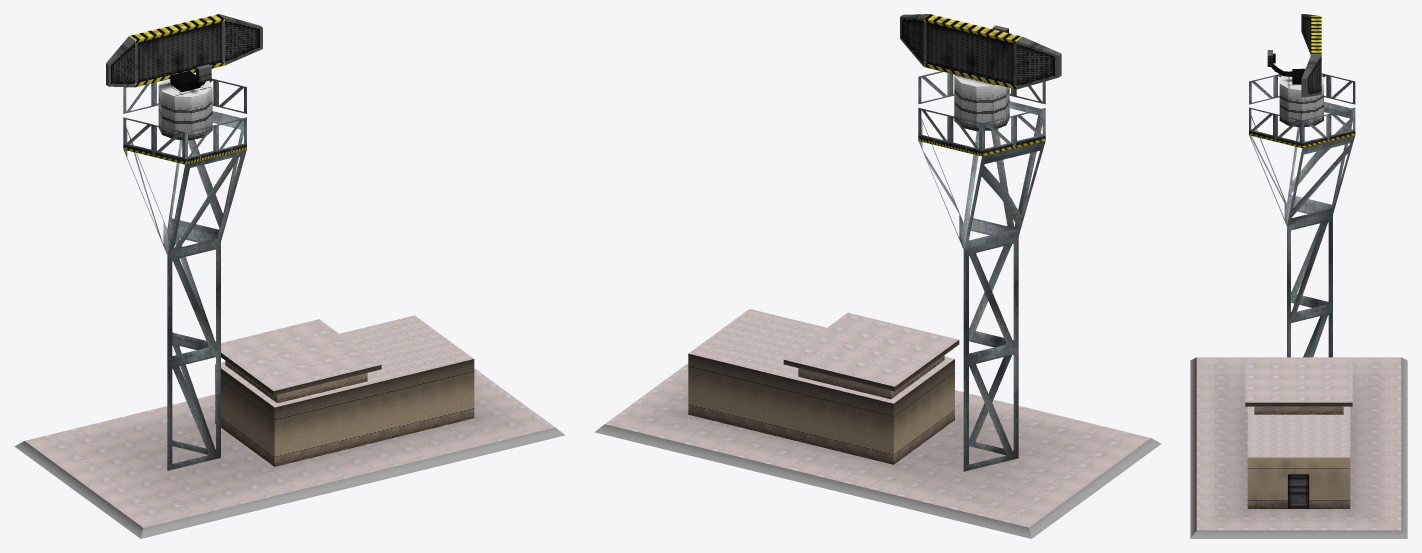
File: M3_RADIOSHACK.glb
3 views of the same model, side by side, from view 1: azimuth 30°, elevation 25°; view 2: azimuth 150°, elevation 25°; view 3: azimuth 270°, elevation 25° (orthographic). The views are drawn at different scales.
Parts seen in each view (by area): view 1: M3_RADIOSHACK, RADARDISH; view 2: M3_RADIOSHACK, RADARDISH; view 3: M3_RADIOSHACK, RADARDISH.
Boxes of the visible parts, bbox=[...] form: M3_RADIOSHACK: bbox=[14, 74, 564, 538]; RADARDISH: bbox=[106, 14, 262, 140]; M3_RADIOSHACK: bbox=[594, 71, 1161, 538]; RADARDISH: bbox=[900, 14, 1061, 131]; M3_RADIOSHACK: bbox=[1190, 68, 1407, 538]; RADARDISH: bbox=[1267, 14, 1323, 127].
Bounding box in the file's own units: 16.5 × 16.01 × 8.5.
Materials: 12 (11 with a texture image).
